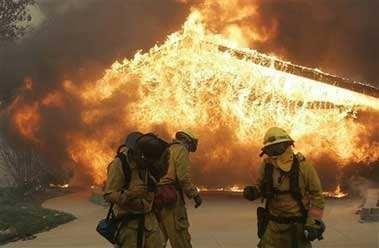fire: (99, 4, 374, 125), (299, 121, 377, 163), (63, 122, 116, 182), (196, 180, 245, 194), (327, 179, 349, 200)
